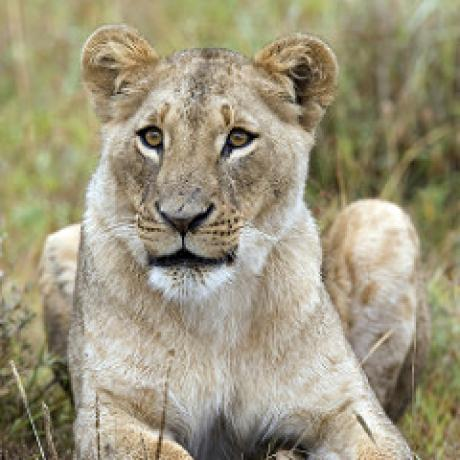Lion: (44, 24, 419, 460)
